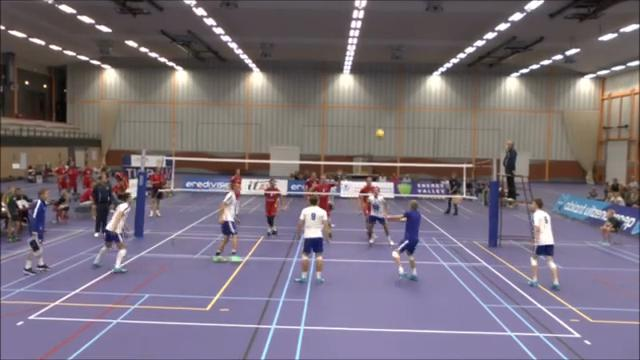ricezione: (381, 195, 427, 285)
